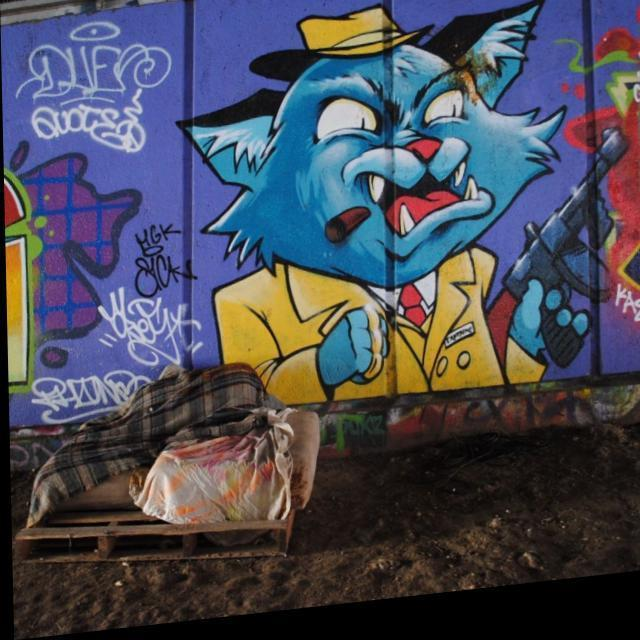nonspitting: (12, 21, 176, 156), (98, 286, 203, 366), (31, 369, 151, 424), (135, 223, 199, 298)
spitting: (179, 4, 627, 408)
